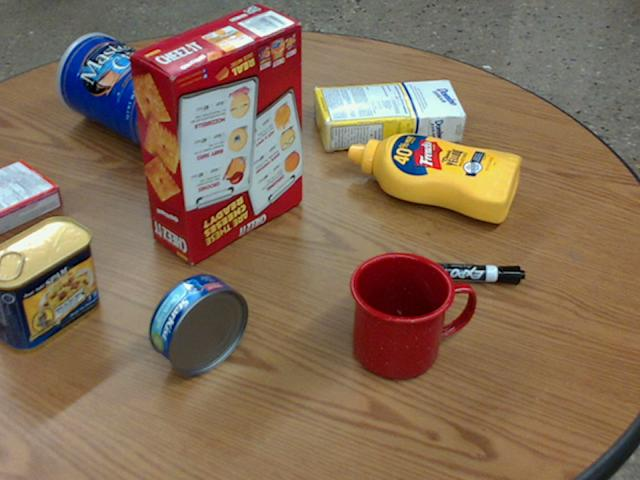cracker_box: (128, 7, 301, 264)
gelatin_box: (0, 160, 63, 235)
large_marker: (405, 261, 525, 283)
master_chef_can: (55, 33, 199, 153)
mug: (350, 251, 474, 379)
mustard_bottle: (347, 134, 521, 221)
potted_meat_can: (0, 217, 98, 353)
sugar_box: (314, 78, 467, 151)
tomato_soup_can: (224, 16, 278, 112)
tuna_fish_can: (149, 274, 248, 375)
